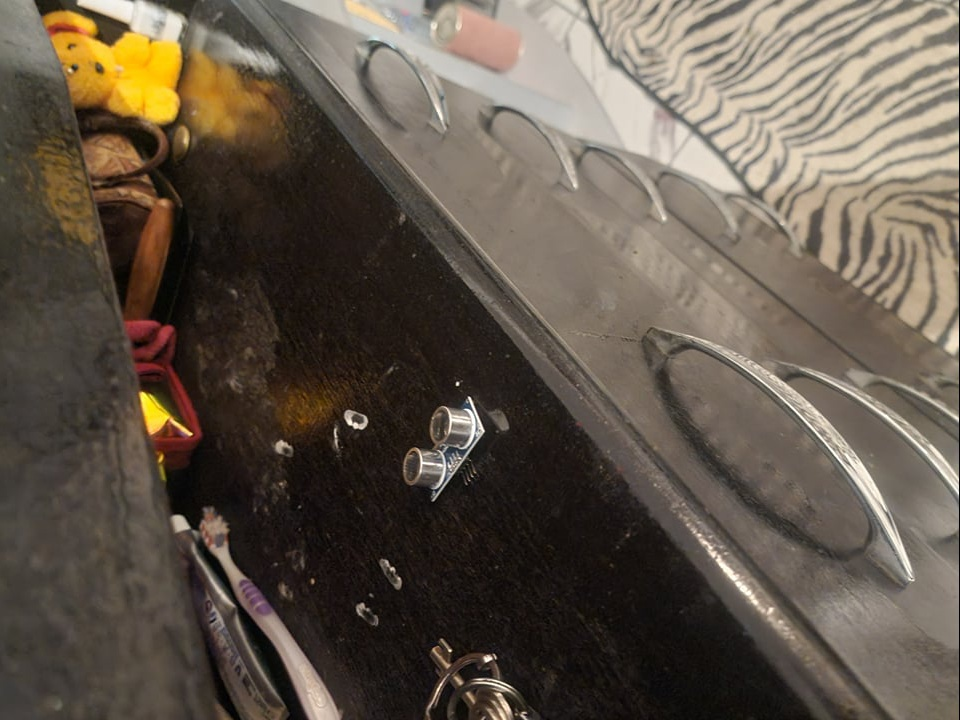SENSOR: (400, 393, 489, 505)
